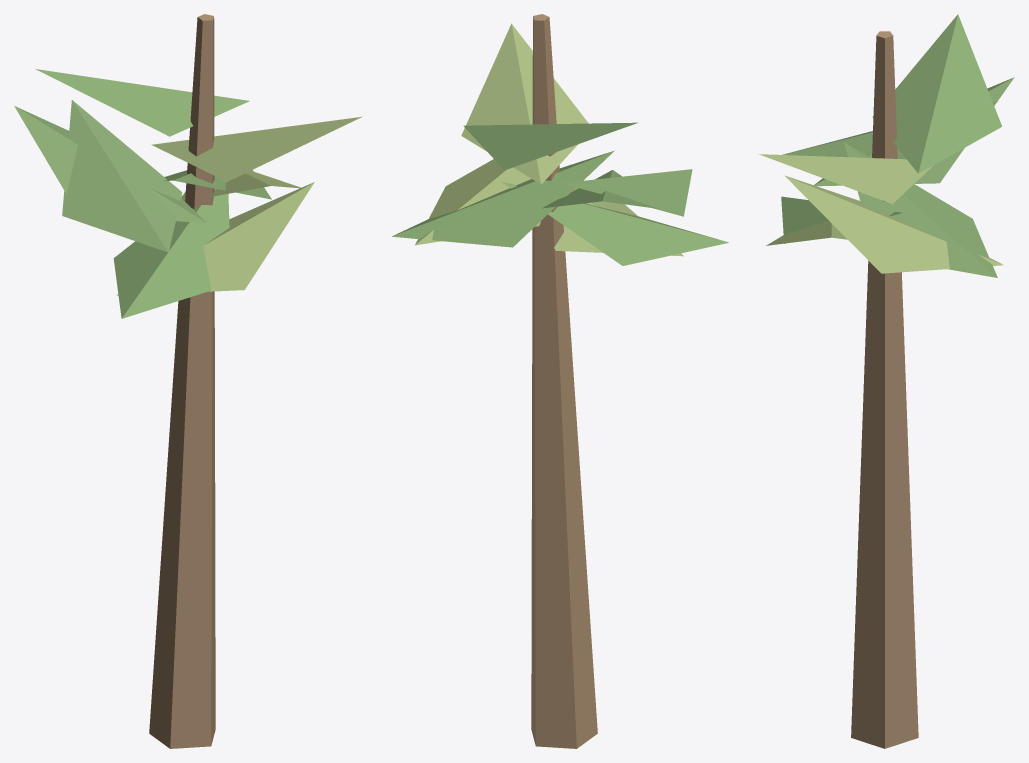
The picture shows the model from 3 angles, left to right: view 1: azimuth 30°, elevation 25°; view 2: azimuth 150°, elevation 25°; view 3: azimuth 270°, elevation 25°; orthographic projection.
Visible parts, largest first — view 1: Body; view 2: Body; view 3: Body.
Part boxes in pixels (x1,y1,x2,y2): Body: [14, 14, 362, 748]; Body: [392, 14, 728, 748]; Body: [758, 14, 1014, 748].
Size of the model in its own units: 0.7759 by 2.2 by 0.7217.
